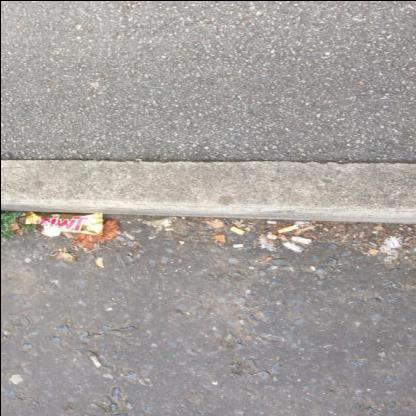Cigarette: (282, 240, 304, 251), (87, 351, 101, 367), (277, 224, 299, 232), (291, 235, 311, 243), (228, 226, 244, 235), (232, 243, 243, 247), (266, 220, 276, 223)
Plastic bag - wrapper: (24, 211, 102, 236)
